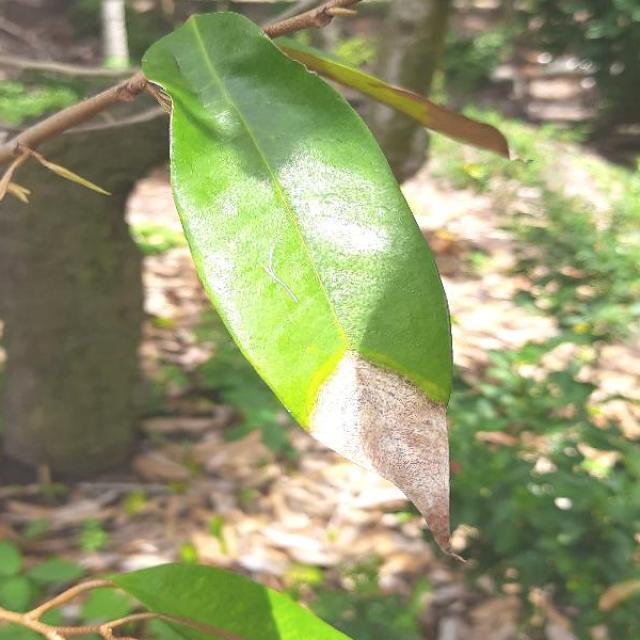Leaf Blight: (119, 0, 470, 564)
